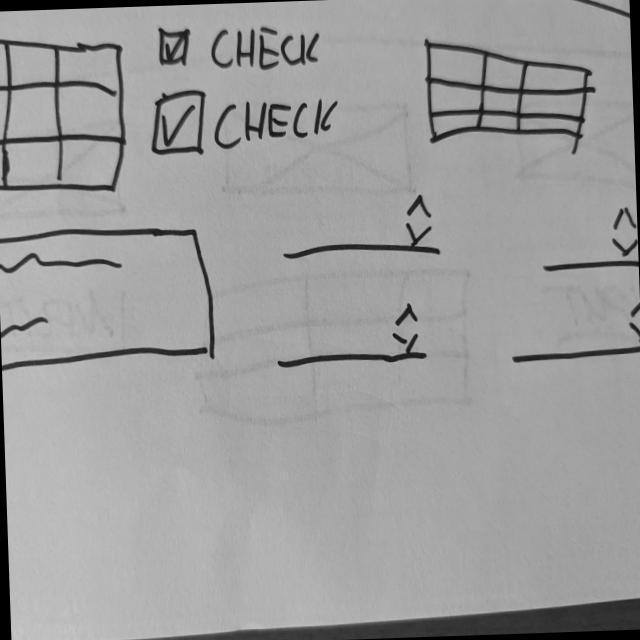checkbox: (147, 82, 343, 159), (155, 18, 326, 80)
number-input: (1, 221, 219, 381), (279, 190, 446, 266), (271, 302, 432, 373), (506, 290, 640, 365), (538, 203, 640, 277)
table: (1, 20, 130, 203), (421, 29, 598, 154)
